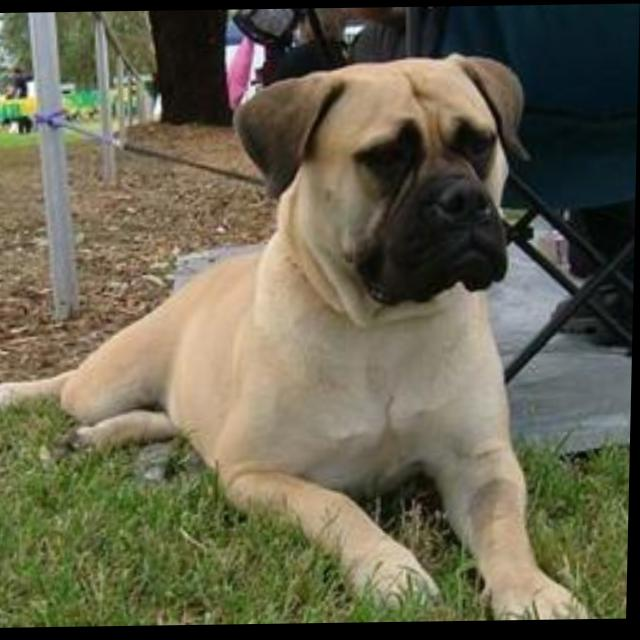bullmastiff: (1, 50, 608, 629)
